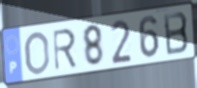2: (108, 17, 134, 66)
6: (137, 14, 160, 61)
8: (81, 23, 106, 68)
B: (162, 10, 190, 58)
O: (24, 30, 51, 77)
R: (51, 27, 78, 74)
